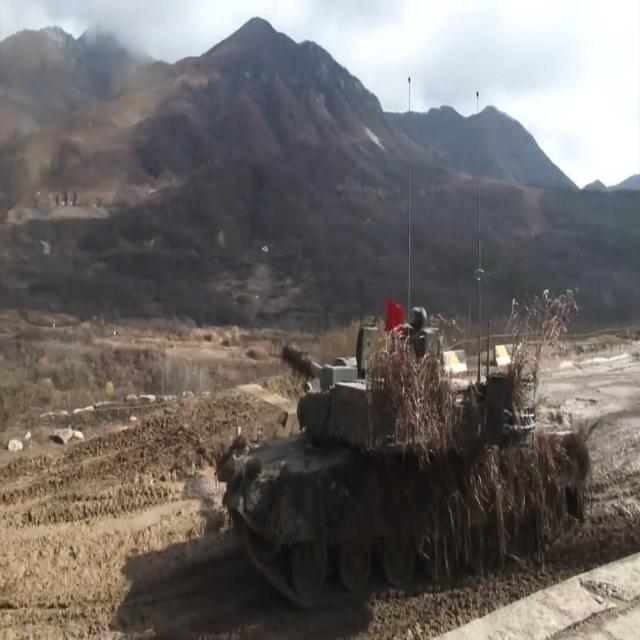korea tank: (214, 306, 589, 608)
